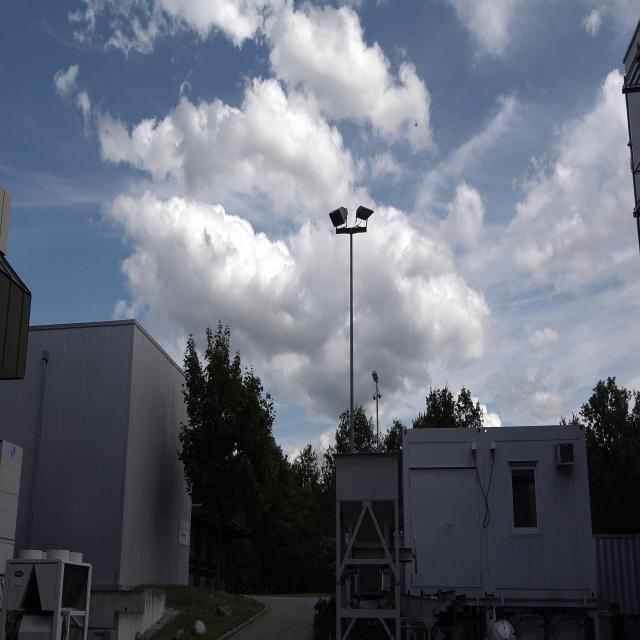drone: (412, 115, 419, 134)
